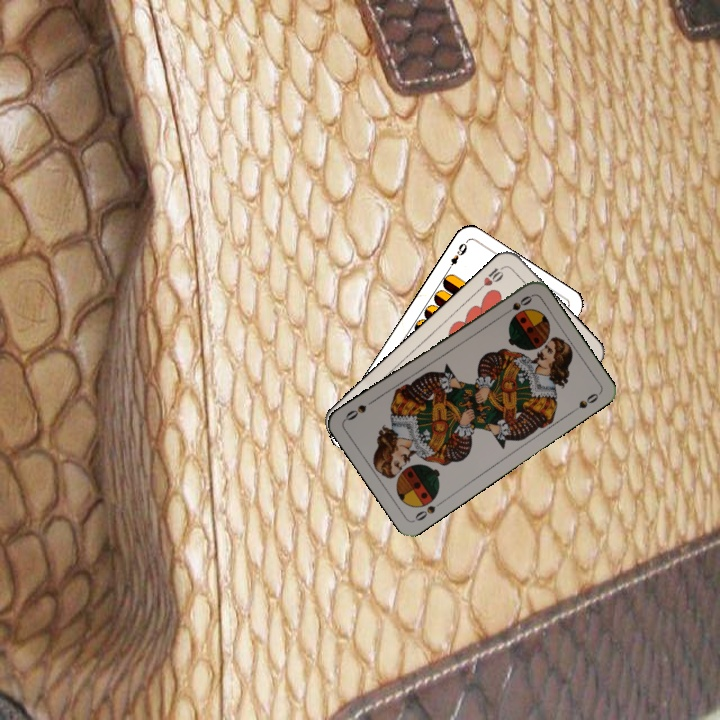E9: (443, 238, 470, 274)
H10: (474, 262, 508, 293)
SO: (498, 291, 535, 319), (411, 497, 446, 524)
